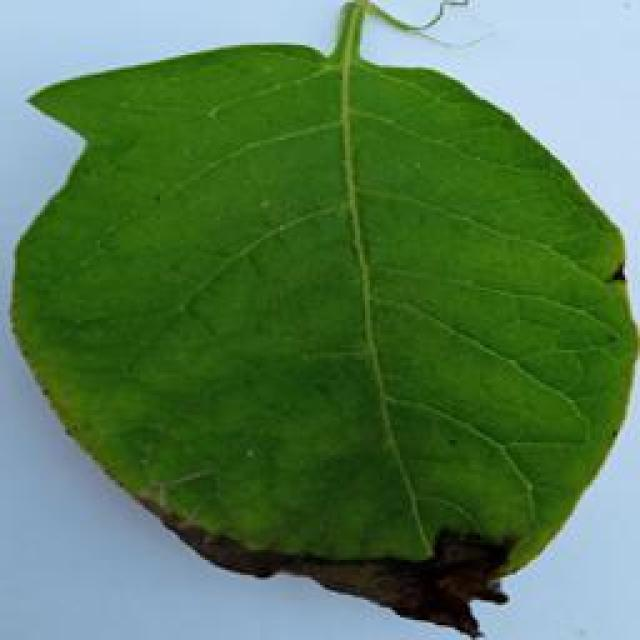Potato_Late_Blight: (12, 9, 628, 634)
